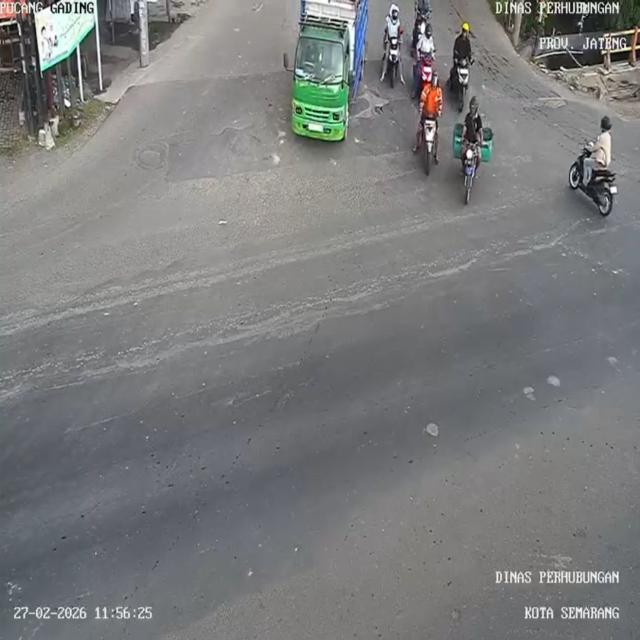motorcycle: (570, 146, 619, 219), (420, 112, 442, 176), (454, 56, 474, 116), (462, 141, 479, 208), (386, 34, 399, 89), (417, 55, 434, 87), (412, 15, 426, 39)
person: (588, 114, 614, 167), (419, 73, 446, 124), (460, 98, 484, 146), (454, 25, 479, 66), (418, 26, 438, 60), (386, 8, 404, 42), (415, 0, 434, 19)
rider_region: (568, 110, 619, 217), (455, 97, 489, 209), (416, 77, 442, 173), (382, 2, 406, 92), (450, 20, 472, 114), (414, 22, 436, 89), (413, 1, 434, 24)
